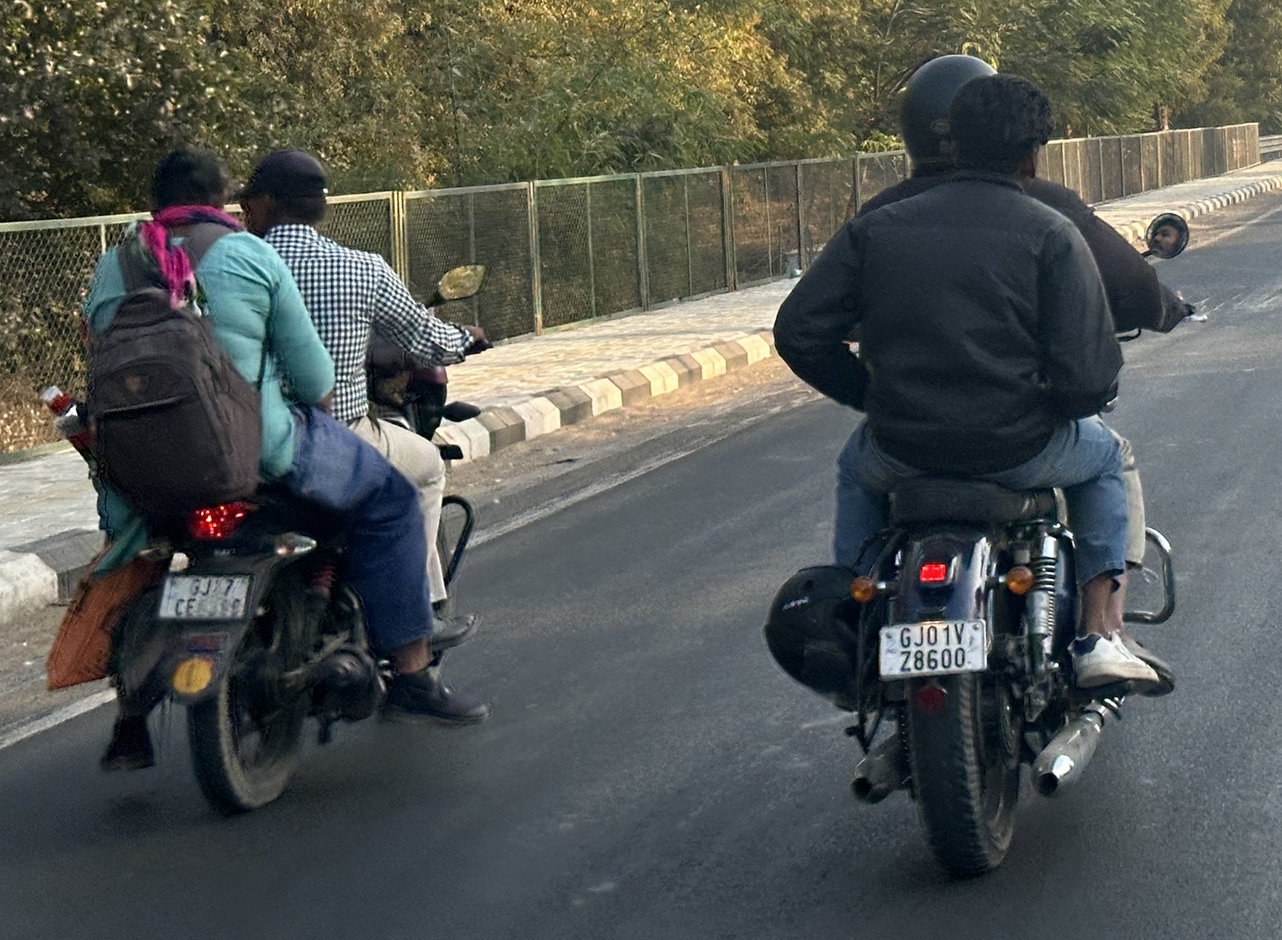BikeWithRider: (761, 44, 1212, 878), (39, 134, 490, 817)
Helmet: (887, 47, 1003, 171)
NoHelmet: (945, 67, 1060, 188), (238, 144, 339, 238), (142, 139, 235, 227)
